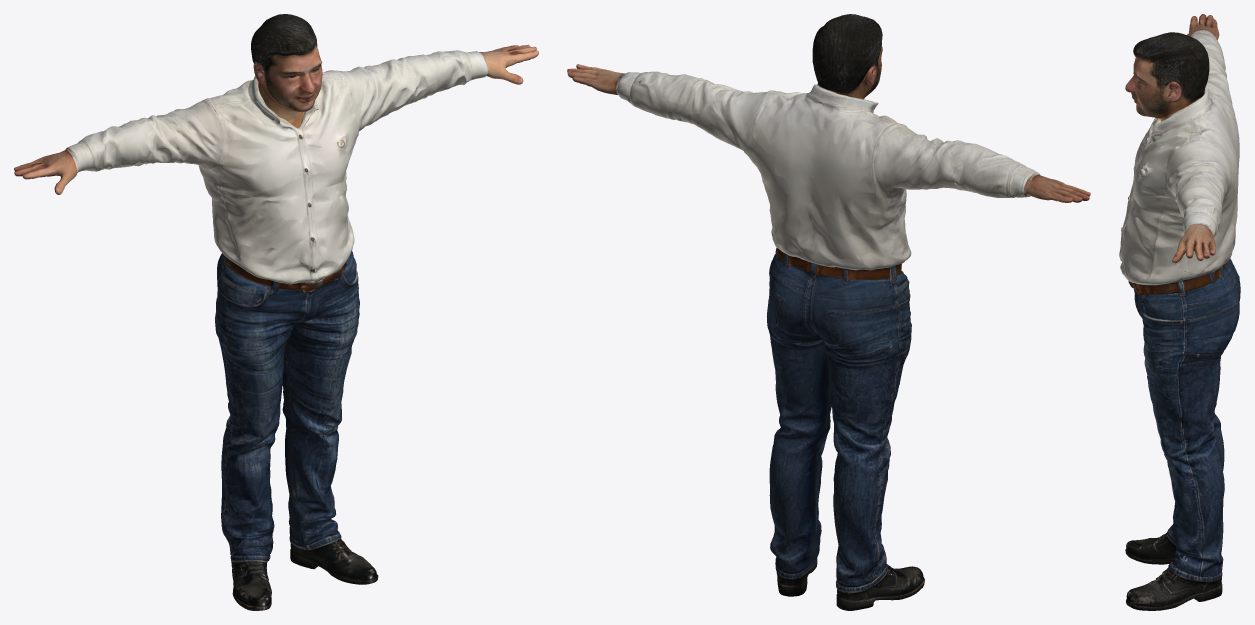
The model's file is Davitik.fbx.
3 renders of one model, left to right at view 1: azimuth 30°, elevation 25°; view 2: azimuth 150°, elevation 25°; view 3: azimuth 270°, elevation 25°, orthographic. The views are drawn at different scales.
Visible parts, largest first — view 1: tripo_node_24bd1255-1a7c-4ff6-9983-bed11a547f72; view 2: tripo_node_24bd1255-1a7c-4ff6-9983-bed11a547f72; view 3: tripo_node_24bd1255-1a7c-4ff6-9983-bed11a547f72.
Part boxes in pixels (left/top/right/bottom): tripo_node_24bd1255-1a7c-4ff6-9983-bed11a547f72: left=14, top=14, right=538, bottom=610; tripo_node_24bd1255-1a7c-4ff6-9983-bed11a547f72: left=567, top=14, right=1090, bottom=610; tripo_node_24bd1255-1a7c-4ff6-9983-bed11a547f72: left=1119, top=14, right=1240, bottom=610.
Size of the model in its own units: 161 by 167 by 33.91.
1 material, 1 textured.
